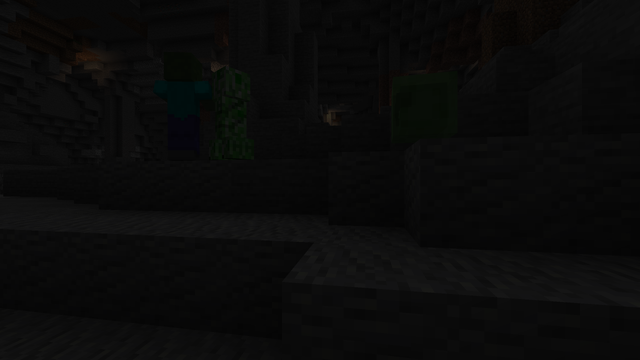creepers: (207, 61, 252, 160)
slimes: (388, 68, 460, 143)
zombies: (158, 52, 202, 161)
